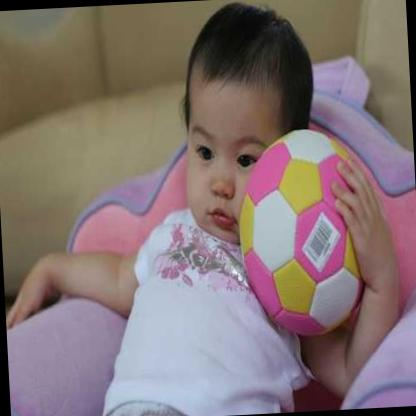ball: (235, 127, 378, 338)
